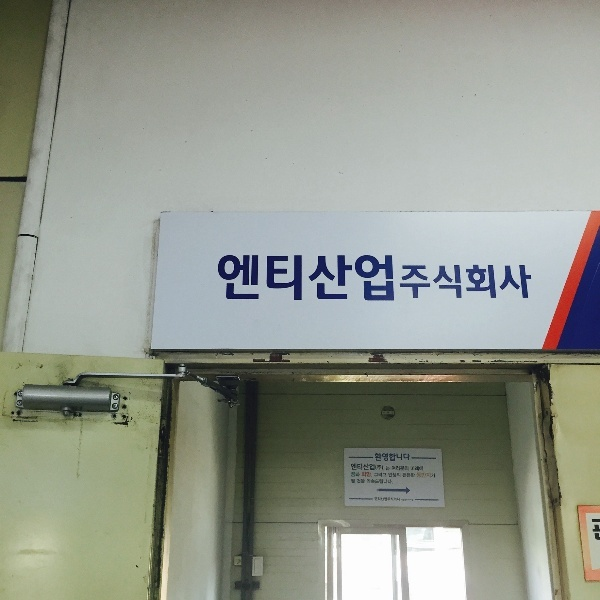text: (225, 252, 240, 305), (241, 252, 256, 305), (257, 252, 272, 305), (273, 252, 288, 305), (289, 252, 304, 305), (305, 252, 320, 305), (321, 252, 336, 305), (337, 252, 352, 305), (353, 252, 368, 305), (369, 252, 384, 305), (385, 252, 396, 305), (401, 263, 416, 301), (417, 263, 432, 301), (433, 263, 448, 301), (449, 263, 464, 301), (465, 263, 480, 301), (481, 263, 496, 301), (497, 263, 512, 301), (513, 263, 528, 301), (216, 252, 224, 305), (529, 263, 535, 301), (593, 518, 600, 544), (385, 452, 400, 462), (353, 463, 368, 471), (369, 463, 384, 471), (417, 472, 432, 479), (401, 452, 411, 462), (375, 452, 384, 462), (369, 478, 384, 484), (385, 465, 400, 471), (402, 472, 416, 478), (388, 472, 400, 478), (387, 497, 400, 502), (353, 471, 361, 478), (357, 479, 368, 484), (590, 518, 592, 544), (374, 497, 384, 502), (374, 472, 384, 477), (385, 478, 393, 484), (392, 466, 400, 472), (401, 466, 409, 472), (399, 263, 400, 301), (362, 472, 368, 478), (417, 466, 424, 471), (401, 499, 416, 501), (411, 466, 416, 471), (369, 472, 373, 478), (433, 473, 436, 478), (385, 497, 387, 502), (353, 479, 355, 484), (385, 472, 387, 477), (351, 463, 352, 471), (351, 471, 352, 478), (367, 478, 368, 484), (351, 479, 352, 484)
